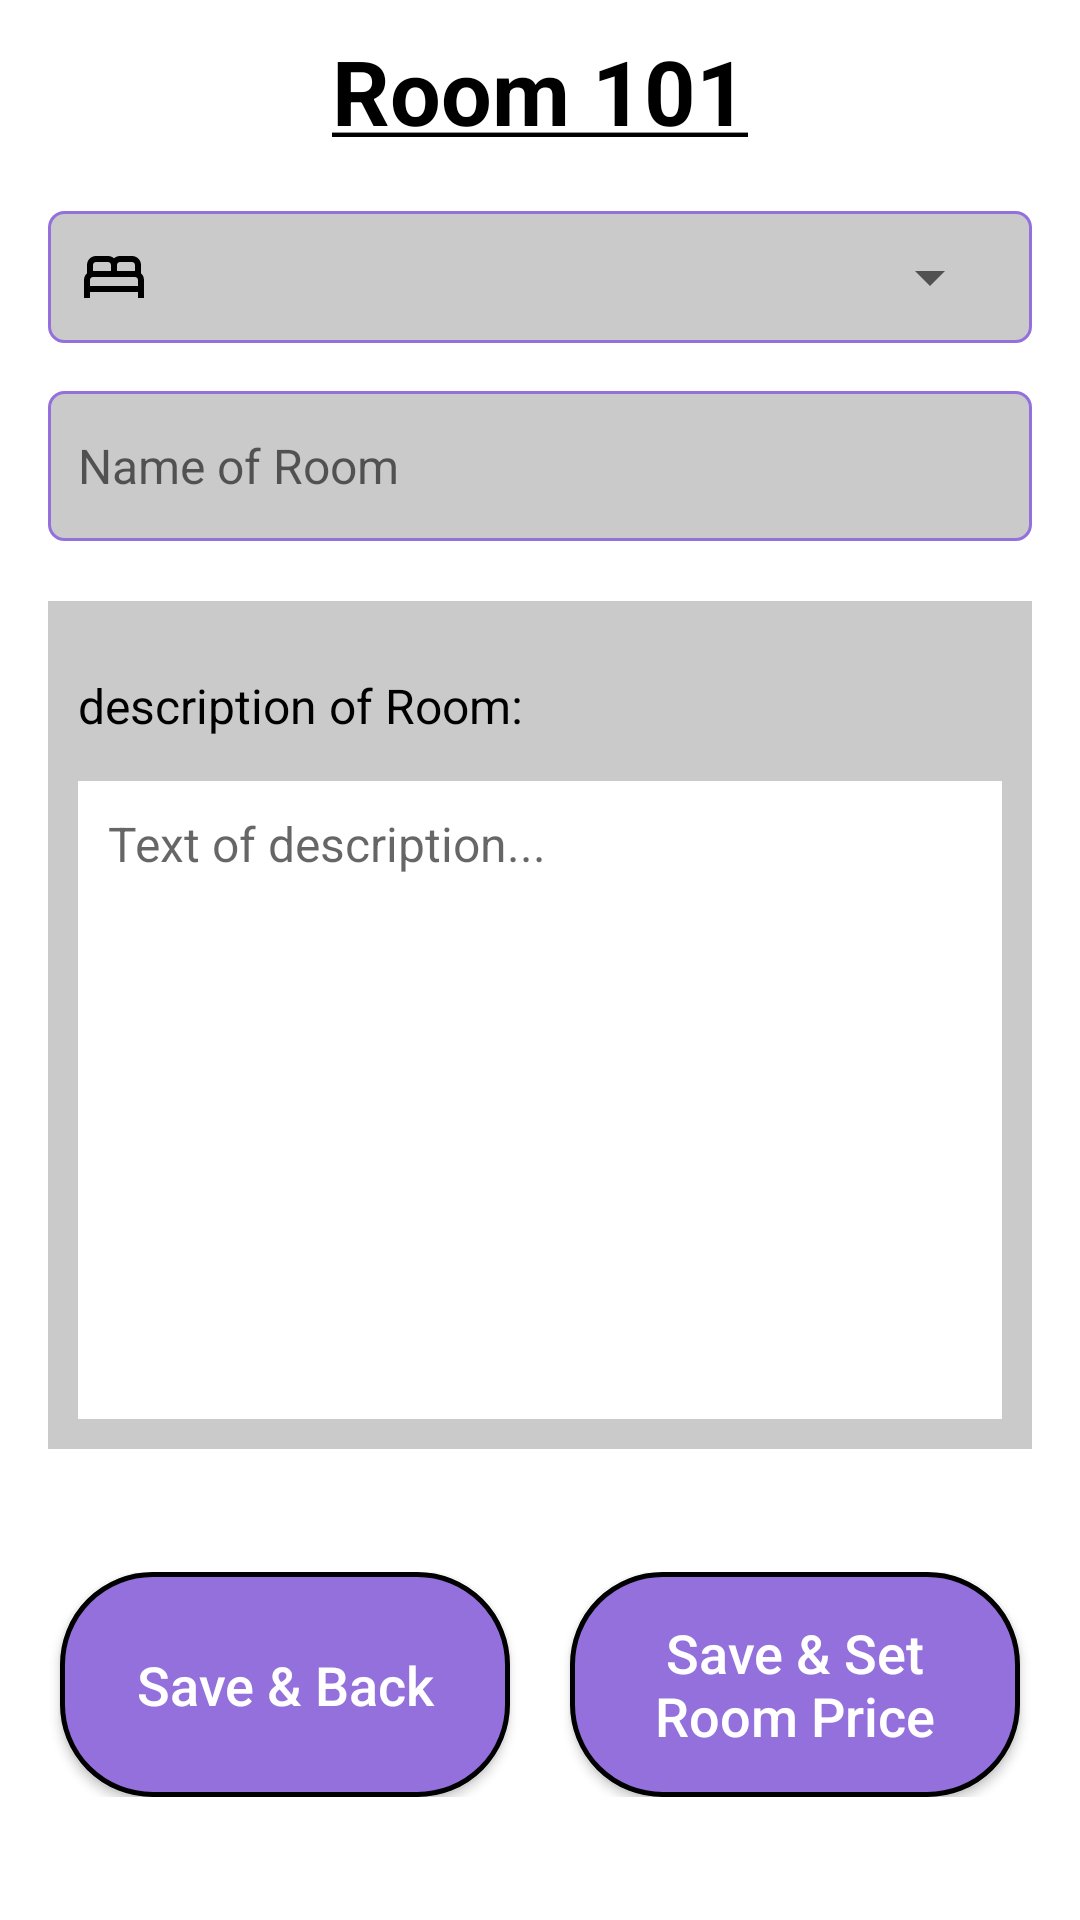

Icon bounding boxes for this 1080×1920 phone screenshot, format bbox=(x1, y1, x2, y2):
bed: bbox=(84, 256, 144, 298)
